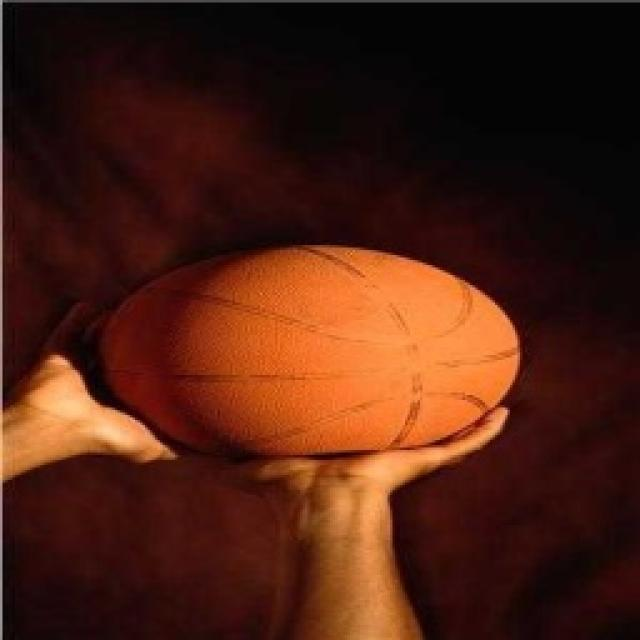rim: (88, 239, 522, 459)
